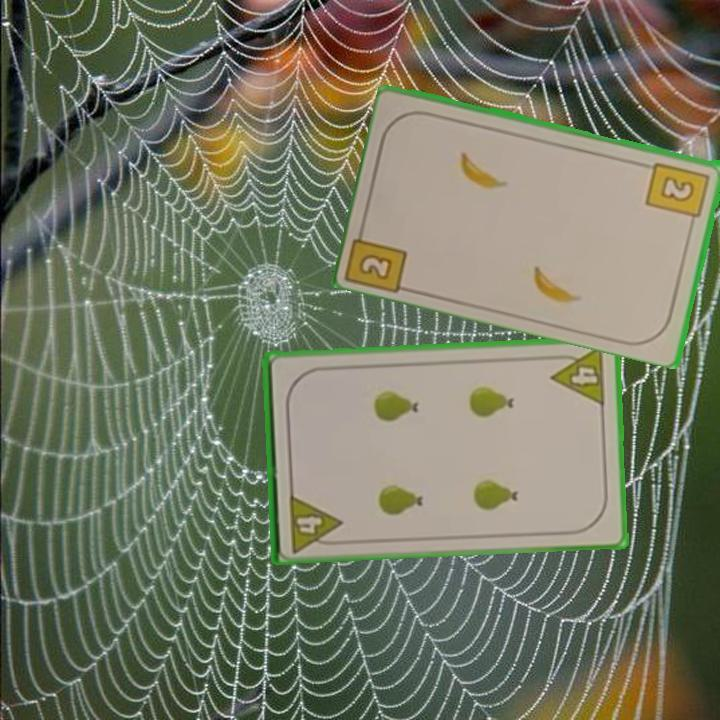2b: (345, 218, 411, 294), (643, 158, 713, 229)
4p: (547, 344, 609, 409), (285, 490, 345, 555)
